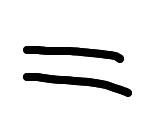eqv: (19, 39, 135, 102)
